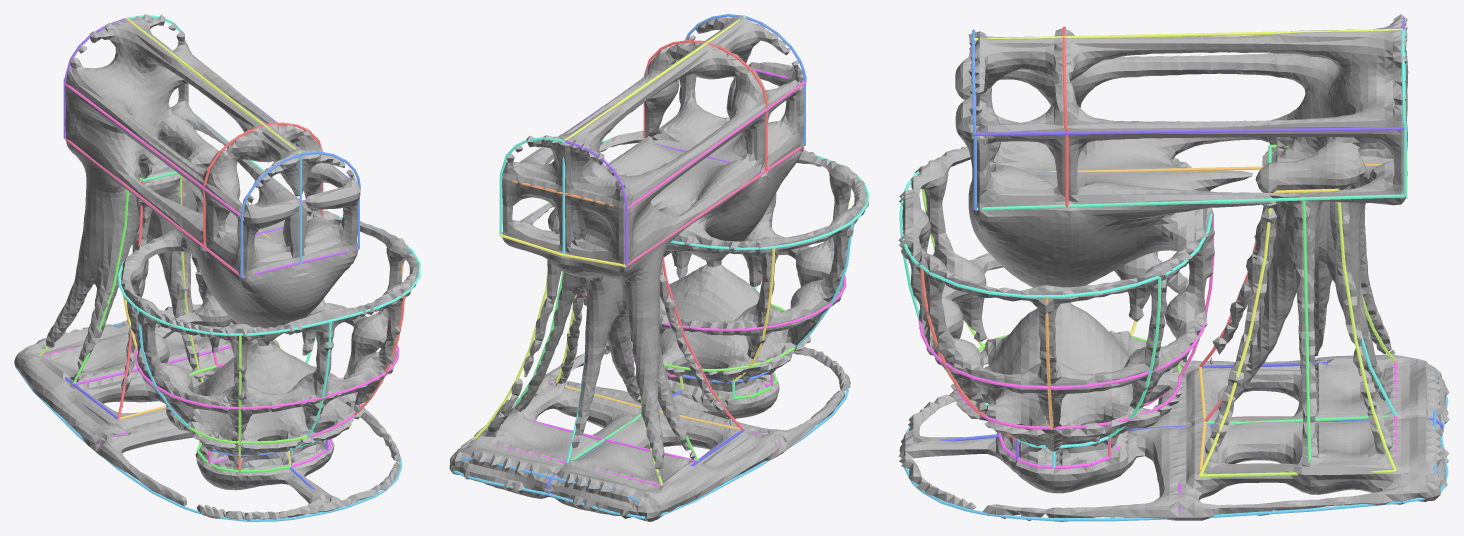
File: t2f_blender.gltf
3 views of the same model, side by side, from view 1: azimuth 30°, elevation 25°; view 2: azimuth 150°, elevation 25°; view 3: azimuth 270°, elevation 25° (orthographic). The views are drawn at different scales.
Bounding box in the file's own units: 0.4703 × 0.6001 × 0.6794.
